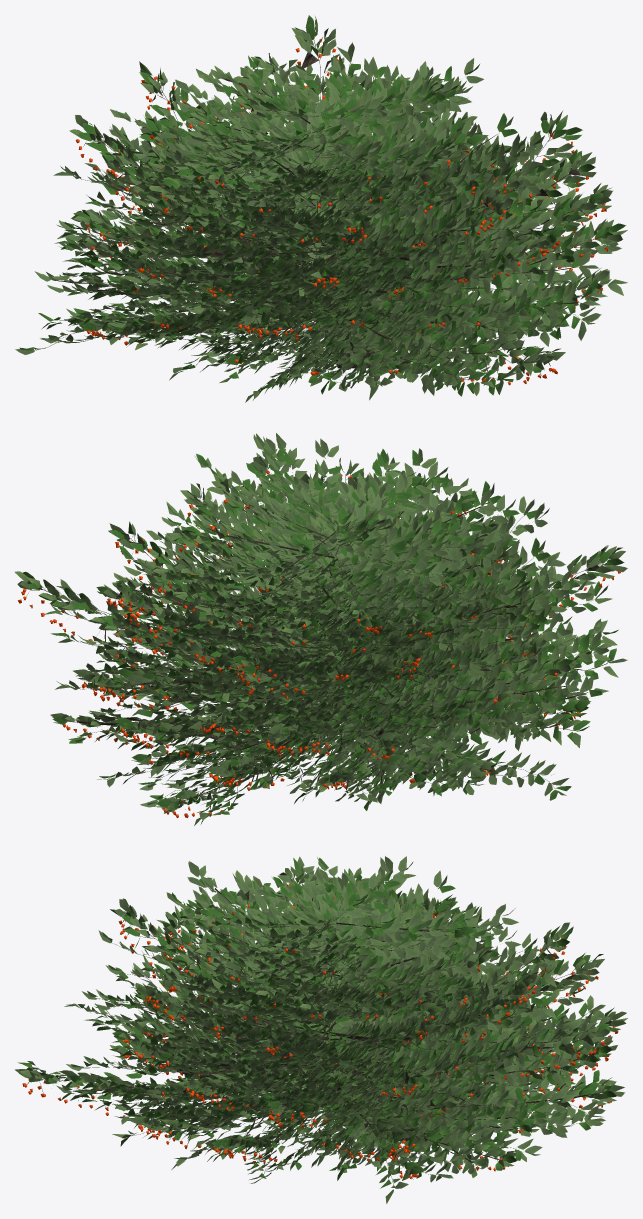
Rendered from cotoneaster.glb.
3 views of the same model, one above another, from view 1: azimuth 30°, elevation 25°; view 2: azimuth 150°, elevation 25°; view 3: azimuth 270°, elevation 25° (orthographic). The views are drawn at different scales.
Visible parts, largest first — view 1: Leaf2_CotoneasterSalicifolius_Mat, Leaf4_CotoneasterSalicifolius_Mat, Leaf1_CotoneasterSalicifolius_Mat, Leaf3_CotoneasterSalicifolius_Mat, Bark_CotoneasterSalicifolius_Mat, Fruit_CotoneasterSalicifolius_Mat; view 2: Leaf4_CotoneasterSalicifolius_Mat, Leaf2_CotoneasterSalicifolius_Mat, Leaf1_CotoneasterSalicifolius_Mat, Leaf3_CotoneasterSalicifolius_Mat, Bark_CotoneasterSalicifolius_Mat, Fruit_CotoneasterSalicifolius_Mat; view 3: Leaf2_CotoneasterSalicifolius_Mat, Leaf1_CotoneasterSalicifolius_Mat, Leaf4_CotoneasterSalicifolius_Mat, Leaf3_CotoneasterSalicifolius_Mat, Bark_CotoneasterSalicifolius_Mat, Fruit_CotoneasterSalicifolius_Mat.
Boxes of the visible parts, x1,y1,x2,y2 form: Leaf2_CotoneasterSalicifolius_Mat: (34,27,627,400); Leaf4_CotoneasterSalicifolius_Mat: (19,15,626,400); Leaf1_CotoneasterSalicifolius_Mat: (15,16,622,395); Leaf3_CotoneasterSalicifolius_Mat: (47,19,611,402); Bark_CotoneasterSalicifolius_Mat: (36,40,605,387); Fruit_CotoneasterSalicifolius_Mat: (75,39,611,385); Leaf4_CotoneasterSalicifolius_Mat: (22,447,624,824); Leaf2_CotoneasterSalicifolius_Mat: (25,436,616,820); Leaf1_CotoneasterSalicifolius_Mat: (17,436,627,813); Leaf3_CotoneasterSalicifolius_Mat: (15,433,625,825); Bark_CotoneasterSalicifolius_Mat: (26,458,608,811); Fruit_CotoneasterSalicifolius_Mat: (18,470,620,817); Leaf2_CotoneasterSalicifolius_Mat: (14,856,627,1188); Leaf1_CotoneasterSalicifolius_Mat: (26,856,625,1183); Leaf4_CotoneasterSalicifolius_Mat: (17,857,620,1188); Leaf3_CotoneasterSalicifolius_Mat: (21,857,626,1203); Bark_CotoneasterSalicifolius_Mat: (27,876,613,1184); Fruit_CotoneasterSalicifolius_Mat: (22,884,618,1179).
Bounding box in the file's own units: 0.9995 × 0.4387 × 1.03.
6 materials, 6 textured.
